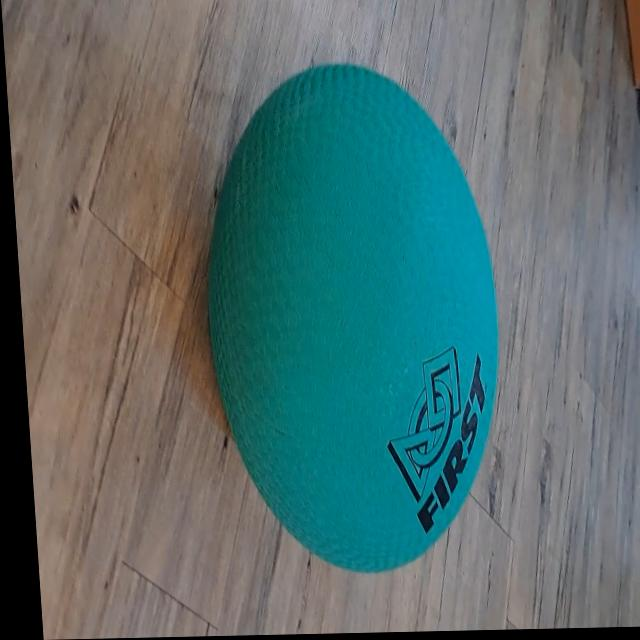ALGAE: (190, 58, 516, 579)
